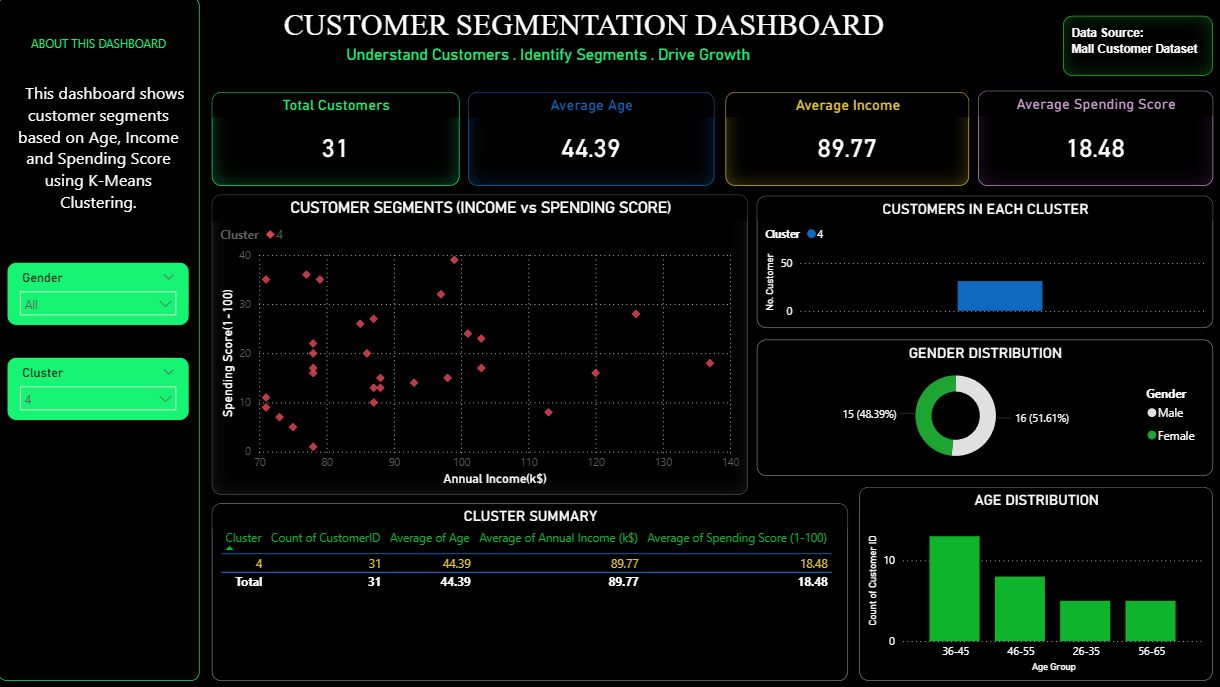

What the dashboard file says about the page in this screenshot:
{"tool":"powerbi","page":{"name":"Page 1","canvas":[1400,790],"ordinal":0},"visuals":[{"type":"textbox","title":"CUSTOMER SEGMENTATION DASHBOARD","box":[317.5,11.2,705,60],"z":0},{"type":"textbox","title":"Understand Customers . Identify Segments . Drive Growth","box":[296.2,56.2,666.2,30],"z":1000},{"type":"textbox","box":[0,0,230,781.4],"z":2000},{"type":"slicer","fields":{"Values":["customer_segments.Gender"]},"box":[10,302.9,208.6,72.9],"z":3000},{"type":"slicer","fields":{"Values":["customer_segments.Cluster"]},"box":[10,411.4,208.6,72.9],"z":4000},{"type":"card","title":"Total Customers","fields":{"Values":["CountNonNull(customer_segments.CustomerID)"]},"box":[244.3,108.6,282.9,107.1],"z":5000},{"type":"card","title":"Average Age","fields":{"Values":["Avg(customer_segments.Age)"]},"box":[537.1,108.6,281.4,107.1],"z":6000},{"type":"card","title":"Average Income","fields":{"Values":["Avg(customer_segments.Annual Income (k$))"]},"box":[831.4,108.6,278.6,107.1],"z":7000},{"type":"card","title":"Average Spending Score","fields":{"Values":["Avg(customer_segments.Spending Score (1-100))"]},"box":[1120,107.1,268.6,108.6],"z":8000},{"type":"textbox","box":[1217.1,21.4,171.4,68.6],"z":9000},{"type":"scatterChart","title":"CUSTOMER SEGMENTS (INCOME vs SPENDING SCORE)","fields":{"X":["customer_segments.Annual Income (k$)"],"Y":["customer_segments.Spending Score (1-100)"],"Series":["customer_segments.Cluster"]},"box":[244.3,225.7,612.9,342.9],"z":10000},{"type":"tableEx","title":"CLUSTER SUMMARY","fields":{"Values":["customer_segments.Cluster","CountNonNull(customer_segments.CustomerID)","Avg(customer_segments.Age)","Avg(customer_segments.Annual Income (k$))","Avg(customer_segments.Spending Score (1-100))"]},"box":[244.3,578.6,727.1,202.9],"z":11000},{"type":"columnChart","title":"AGE DISTRIBUTION","fields":{"Y":["CountNonNull(customer_segments.CustomerID)"],"Category":["customer_segments.Age Group"]},"box":[984.3,560,404.3,221.4],"z":12000},{"type":"donutChart","title":"GENDER DISTRIBUTION","fields":{"Category":["customer_segments.Gender"],"Y":["CountNonNull(customer_segments.CustomerID)"]},"box":[867.1,391.4,521.4,155.7],"z":13000},{"type":"clusteredColumnChart","title":"CUSTOMERS IN EACH CLUSTER","fields":{"Y":["CountNonNull(customer_segments.CustomerID)"],"Series":["customer_segments.Cluster"]},"box":[867,227.7,521.6,150.9],"z":14000}]}

Visuals, with their boxes in screenshot pixels (x1, y1, x2, y2), scaled from the page's 1400x790 canvas onto the 1220x687 screenshot:
"CUSTOMER SEGMENTATION DASHBOARD" textbox: [left=277, top=10, right=891, bottom=62]
"Understand Customers . Identify Segments . Drive Growth" textbox: [left=258, top=49, right=839, bottom=75]
textbox: [left=0, top=0, right=200, bottom=680]
slicer - customer_segments.Gender: [left=9, top=263, right=190, bottom=327]
slicer - customer_segments.Cluster: [left=9, top=358, right=190, bottom=421]
"Total Customers" card: [left=213, top=94, right=459, bottom=188]
"Average Age" card: [left=468, top=94, right=713, bottom=188]
"Average Income" card: [left=725, top=94, right=967, bottom=188]
"Average Spending Score" card: [left=976, top=93, right=1210, bottom=188]
textbox: [left=1061, top=19, right=1210, bottom=78]
"CUSTOMER SEGMENTS (INCOME vs SPENDING SCORE)" scatterChart: [left=213, top=196, right=747, bottom=494]
"CLUSTER SUMMARY" tableEx: [left=213, top=503, right=847, bottom=680]
"AGE DISTRIBUTION" columnChart: [left=858, top=487, right=1210, bottom=680]
"GENDER DISTRIBUTION" donutChart: [left=756, top=340, right=1210, bottom=476]
"CUSTOMERS IN EACH CLUSTER" clusteredColumnChart: [left=756, top=198, right=1210, bottom=329]
